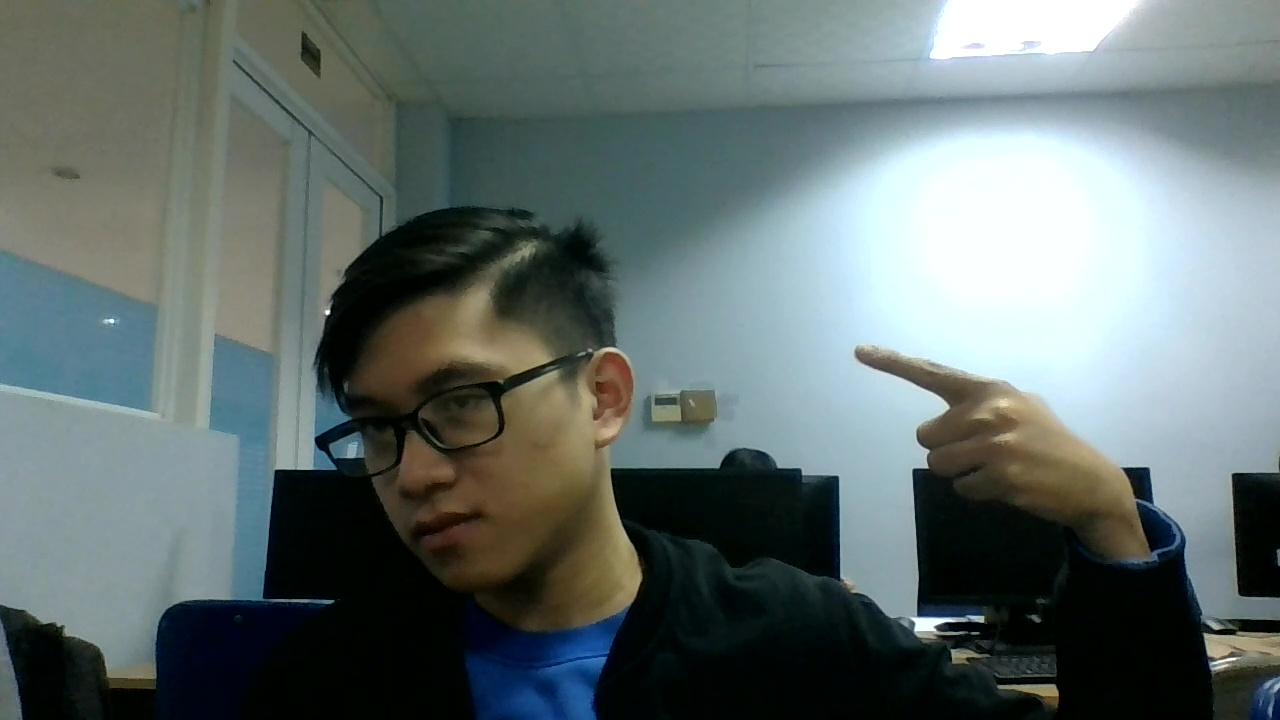right: (851, 332, 1164, 538)
